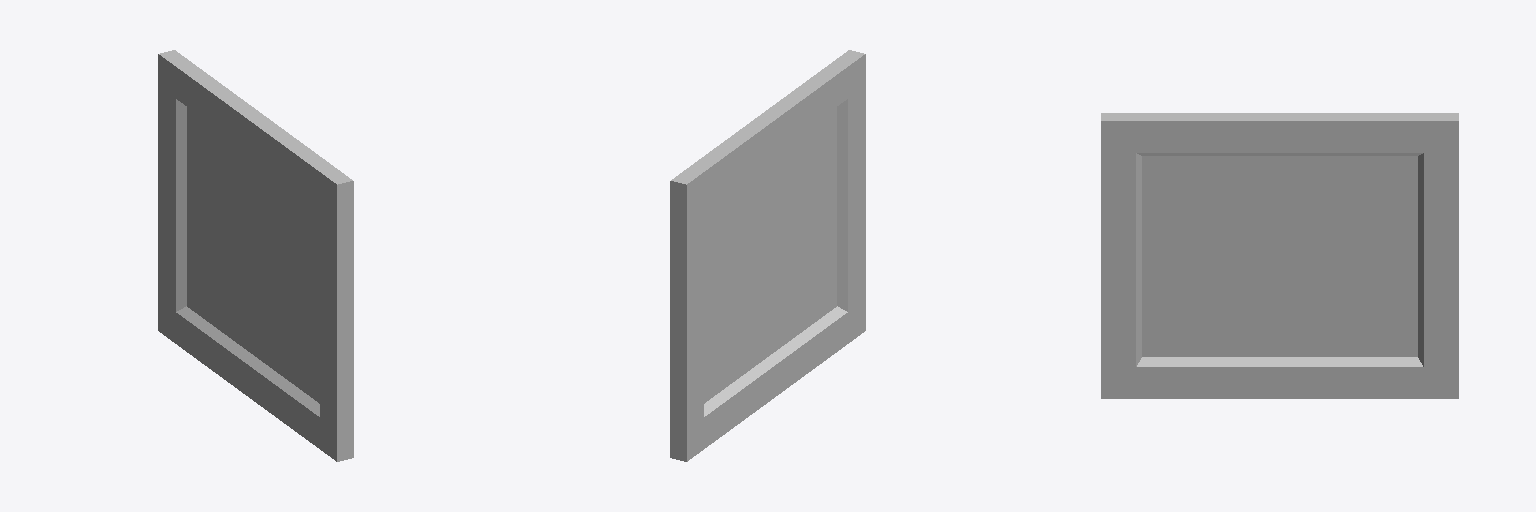
File: BarDoor.obj
3 renders of one model, left to right at view 1: azimuth 30°, elevation 25°; view 2: azimuth 150°, elevation 25°; view 3: azimuth 270°, elevation 25°, orthographic.
Parts seen in each view (by area): view 1: Cube.038; view 2: Cube.038; view 3: Cube.038.
Part boxes in pixels (x1,y1,x2,y2): Cube.038: (158, 50, 353, 461); Cube.038: (670, 50, 865, 461); Cube.038: (1101, 113, 1458, 398).
Size of the model in its own units: 0.0508 by 0.8236 by 0.9621.